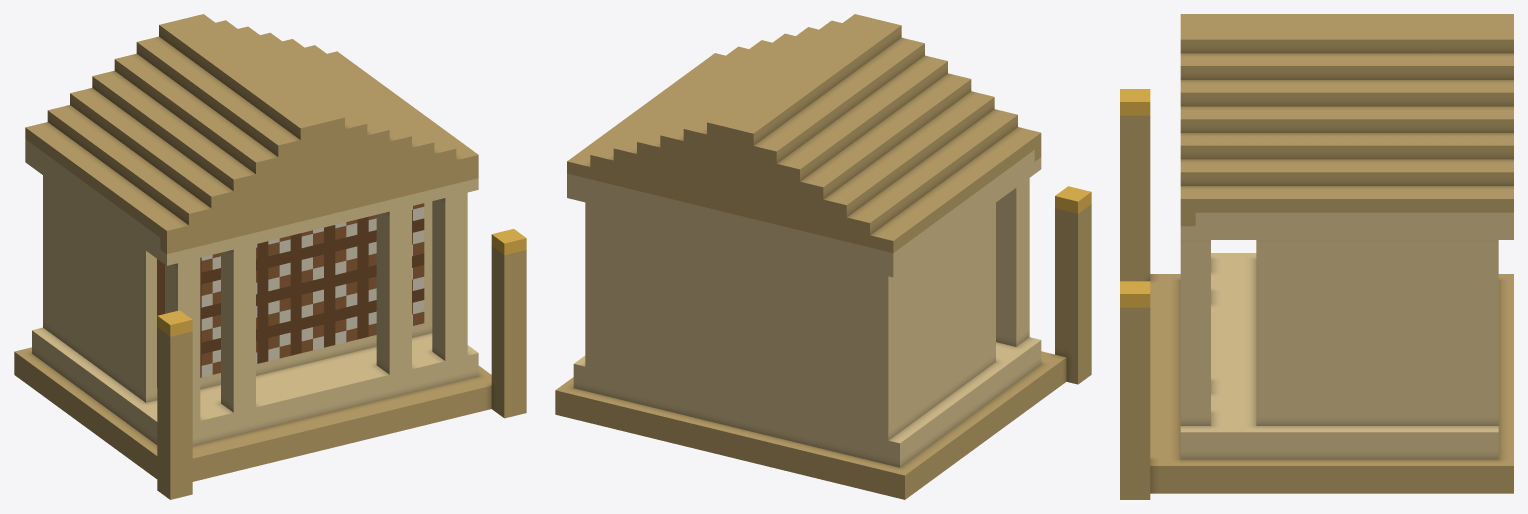
Rendered from w_great_library.glb.
The picture shows the model from 3 angles, left to right: view 1: azimuth 30°, elevation 25°; view 2: azimuth 150°, elevation 25°; view 3: azimuth 270°, elevation 25°; orthographic projection. The views are drawn at different scales.
Visible parts, largest first — view 1: w_great_library_body; view 2: w_great_library_body; view 3: w_great_library_body.
Part boxes in pixels (x1,y1,x2,y2): w_great_library_body: [14, 14, 526, 499]; w_great_library_body: [555, 14, 1091, 499]; w_great_library_body: [1120, 14, 1513, 499].
Size of the model in its own units: 2 by 1.69 by 1.62.
1 material, 1 textured.
